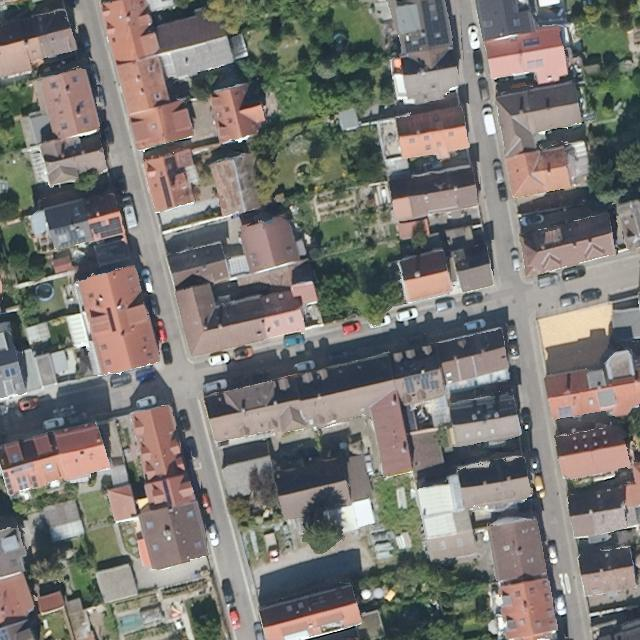PV: (420, 0, 450, 47), (90, 215, 125, 242), (52, 224, 88, 250), (404, 36, 427, 54), (418, 375, 440, 393), (402, 375, 416, 395)
